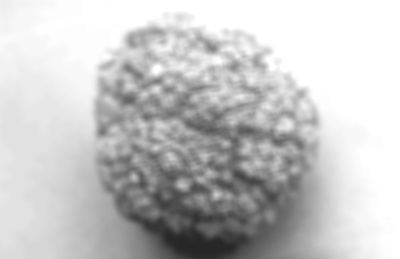halobolite: (50, 0, 352, 259)
